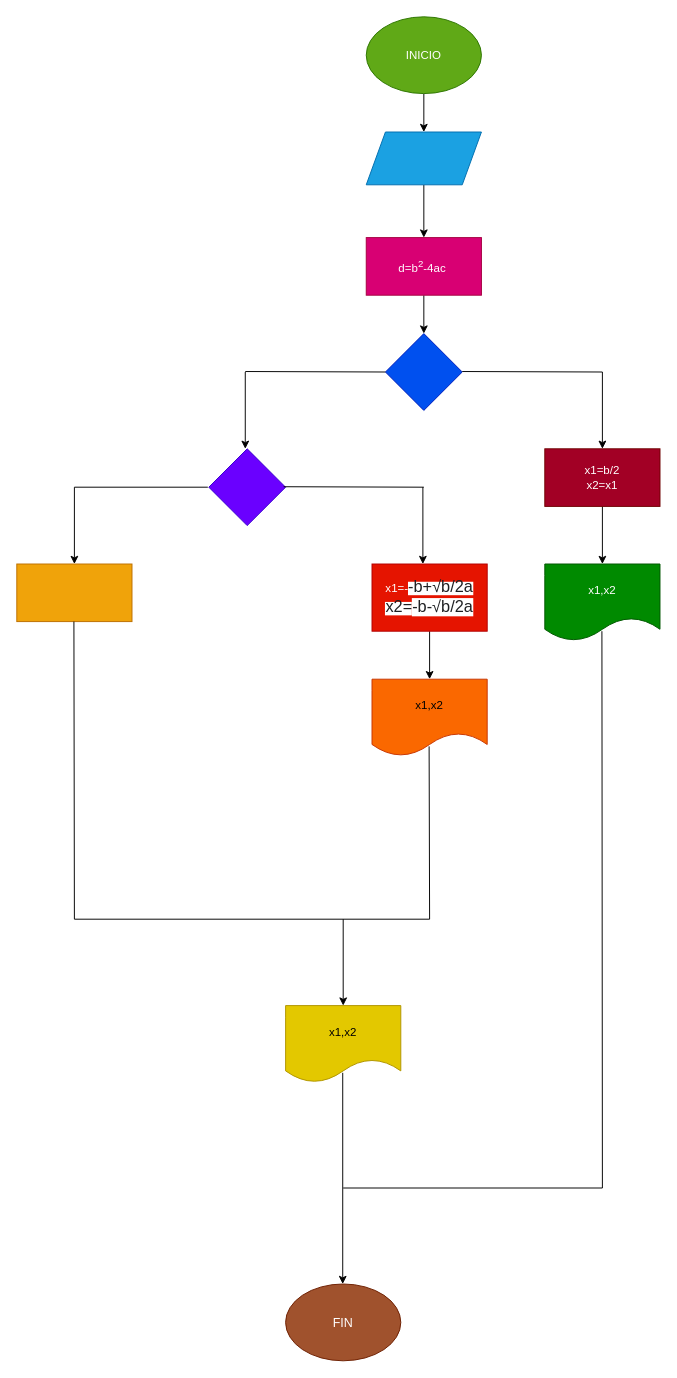
Some shapes in this 677 by 1378 pixel diagram are drawn without their labels. The box of each missing label's shape, as (x1, y1, x2, y2) in pixels:
a,b,c: (365, 131, 481, 185)
d==0: (384, 333, 462, 410)
d>0: (208, 448, 286, 526)
msj=las raices son imaginarias: (16, 563, 132, 622)
